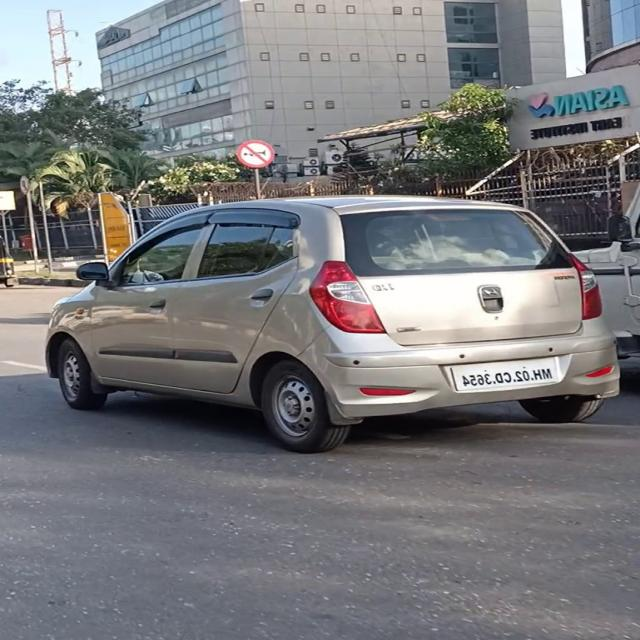license_plate: (443, 352, 567, 398)
